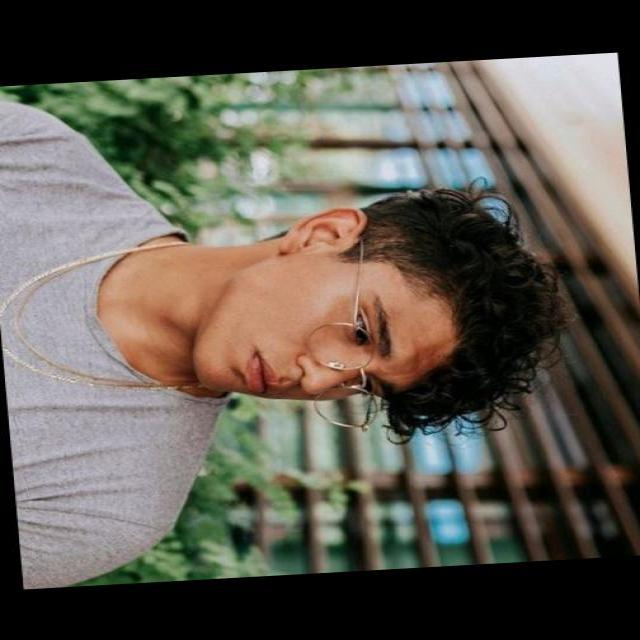glasses: (299, 272, 383, 434)
